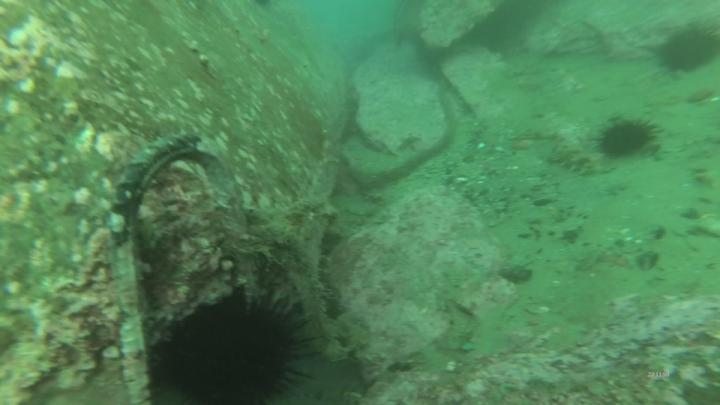echinus: (145, 270, 327, 405), (649, 22, 720, 79), (591, 114, 667, 162)
holothurian: (553, 135, 595, 179)
